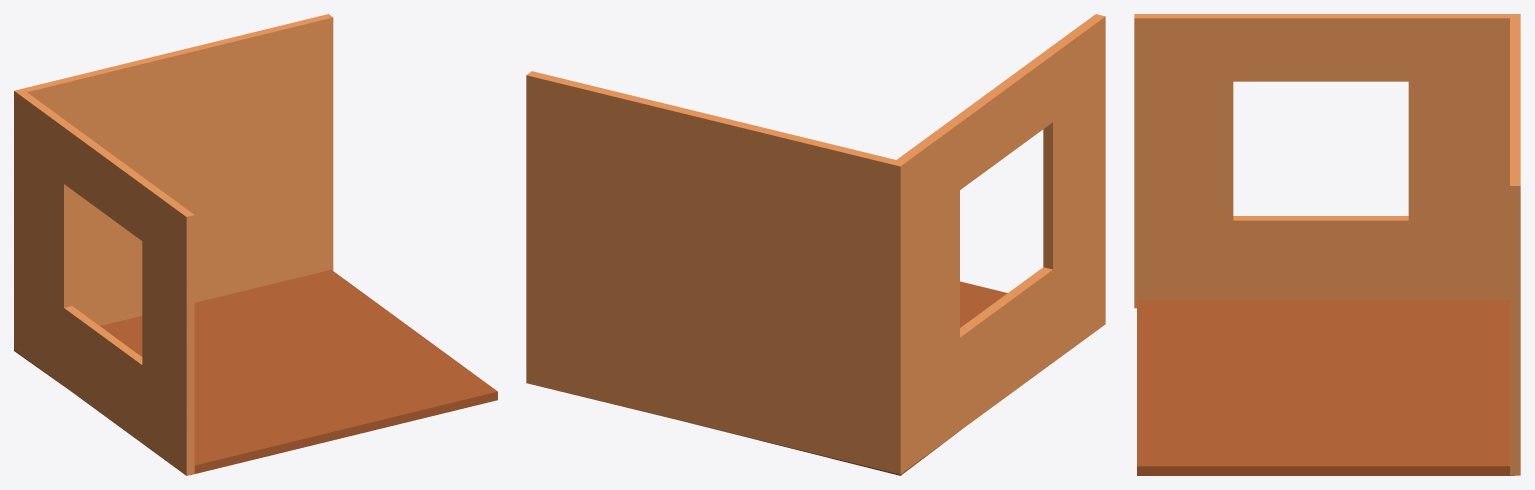
The model's file is Farmhouse_ROOM_base_v01.glb.
3 renders of one model, left to right at view 1: azimuth 30°, elevation 25°; view 2: azimuth 150°, elevation 25°; view 3: azimuth 270°, elevation 25°, orthographic. The views are drawn at different scales.
Parts seen in each view (by area): view 1: Farmhouse_ROOM_base_v01; view 2: Farmhouse_ROOM_base_v01; view 3: Farmhouse_ROOM_base_v01.
Boxes of the visible parts, x1,y1,x2,y2 form: Farmhouse_ROOM_base_v01: (14, 14, 497, 475); Farmhouse_ROOM_base_v01: (526, 14, 1105, 475); Farmhouse_ROOM_base_v01: (1134, 14, 1520, 475).
Size of the model in its own units: 3.78 by 2.99 by 3.59.
